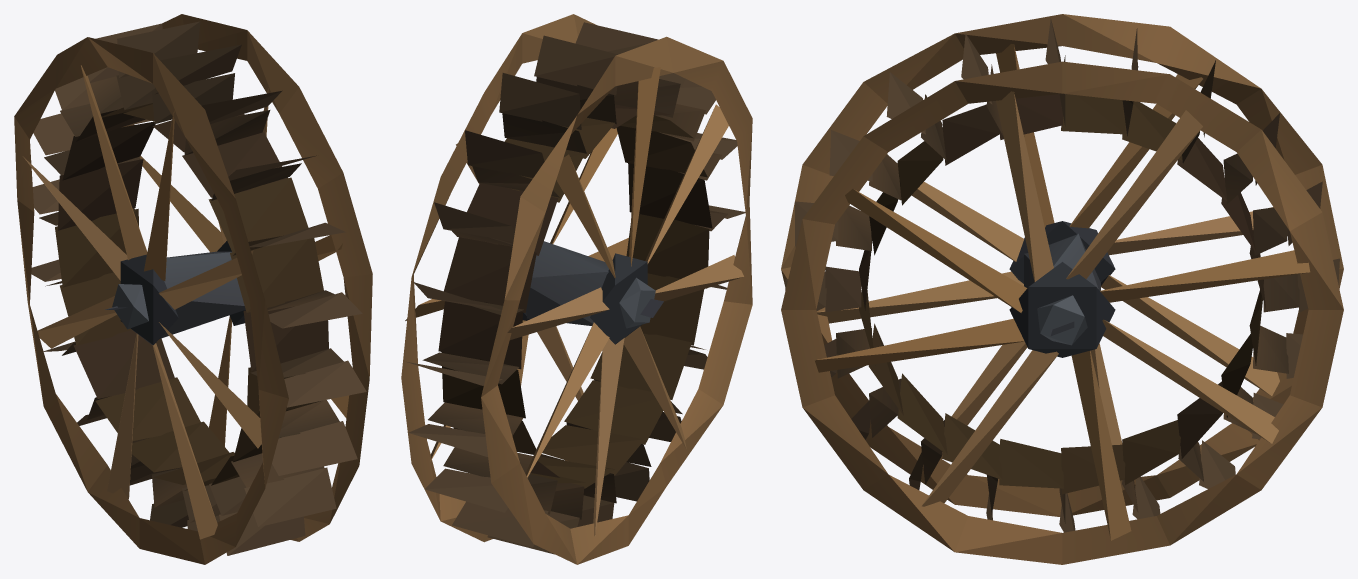
File: river_mill_wheel-lod1.glb
3 renders of one model, left to right at view 1: azimuth 30°, elevation 25°; view 2: azimuth 150°, elevation 25°; view 3: azimuth 270°, elevation 25°, orthographic. The views are drawn at different scales.
Parts seen in each view (by area): view 1: river_mill_wheel; view 2: river_mill_wheel; view 3: river_mill_wheel.
Part boxes in pixels (x1,y1,x2,y2): river_mill_wheel: [14, 14, 372, 564]; river_mill_wheel: [401, 14, 752, 564]; river_mill_wheel: [781, 14, 1343, 564].
Bounding box in the file's own units: 2.5 × 7 × 7.
